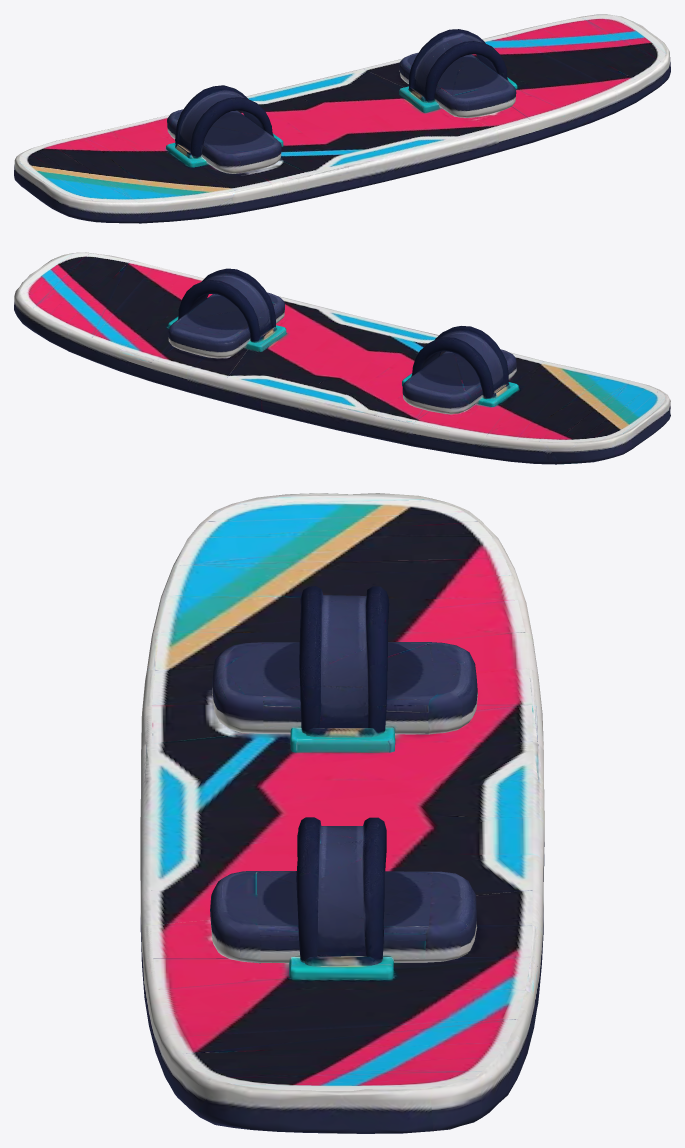
Rendered from board.glb.
3 views of the same model, one above another, from view 1: azimuth 30°, elevation 25°; view 2: azimuth 150°, elevation 25°; view 3: azimuth 270°, elevation 25° (orthographic). The views are drawn at different scales.
Bounding box in the file's own units: 1 × 0.1274 × 0.2862.
Materials: 1 (1 with a texture image).
